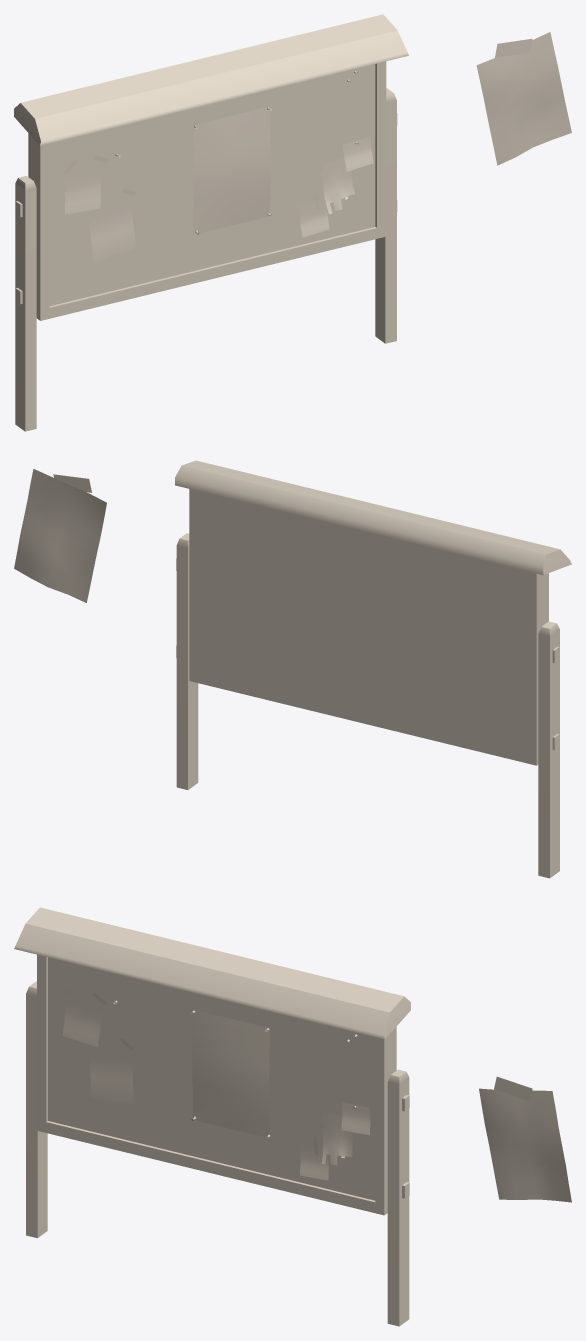
File: bulletin.glb
3 renders of one model, top to bottom at view 1: azimuth 30°, elevation 25°; view 2: azimuth 150°, elevation 25°; view 3: azimuth 330°, elevation 25°, orthographic.
Visible parts, largest first — view 1: Object_3; view 2: Object_3; view 3: Object_3.
Boxes of the visible parts, bbox=[...] form: Object_3: bbox=[14, 14, 571, 431]; Object_3: bbox=[14, 460, 571, 878]; Object_3: bbox=[14, 907, 571, 1326].
Size of the model in its own units: 5.18 by 2.9 by 0.4464.
